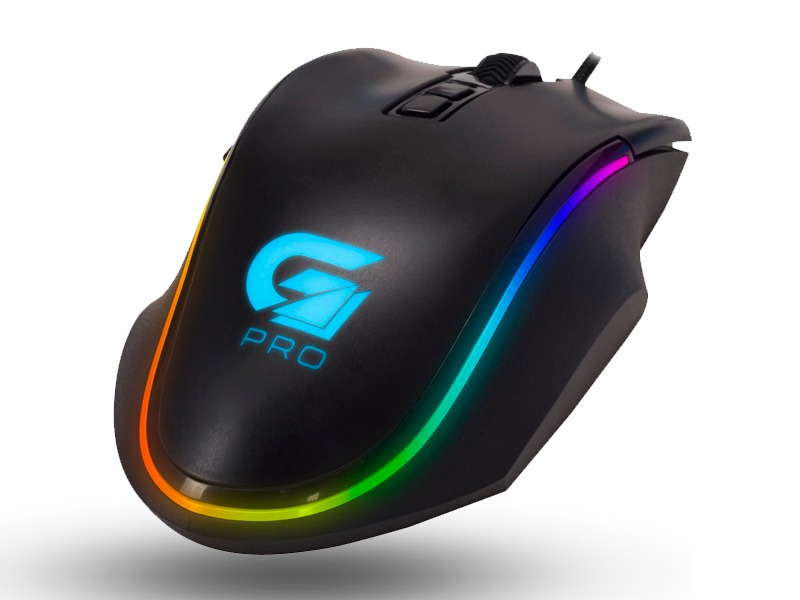mouse: (107, 8, 696, 570)
